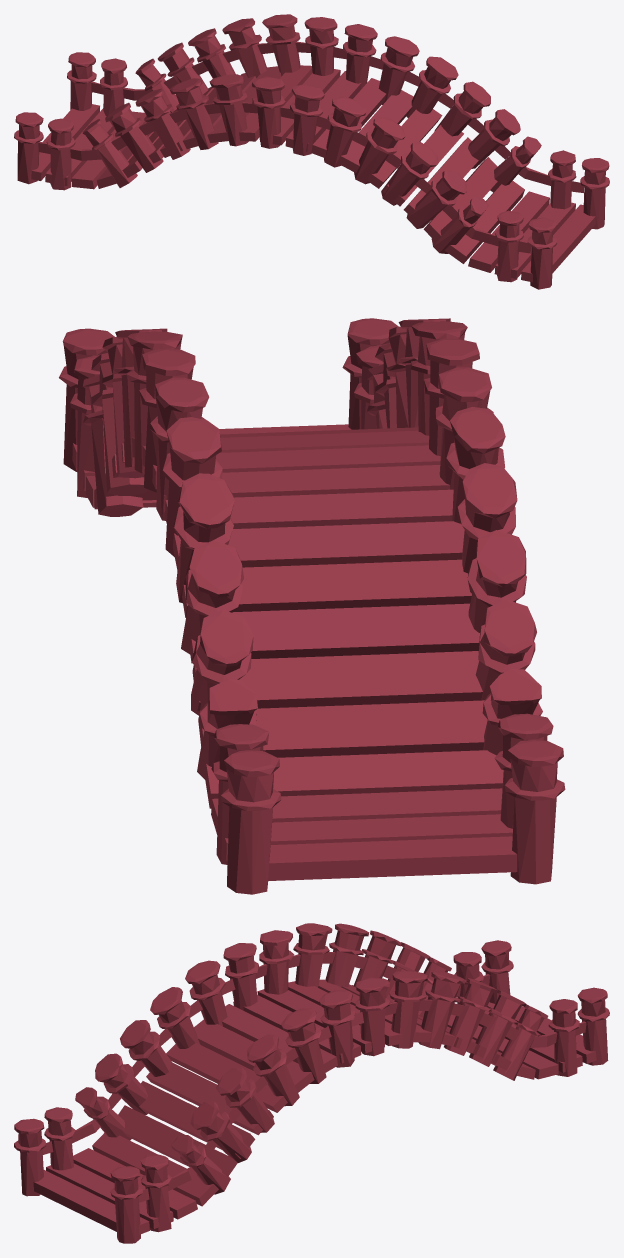
Rendered from bridge.fbx.
3 renders of one model, top to bottom at view 1: azimuth 30°, elevation 25°; view 2: azimuth 150°, elevation 25°; view 3: azimuth 270°, elevation 25°, orthographic. The views are drawn at different scales.
Visible parts, largest first — view 1: bridge; view 2: bridge; view 3: bridge.
Boxes of the visible parts, x1=… form: bridge: x1=14, y1=14, x2=609, y2=289; bridge: x1=59, y1=318, x2=565, y2=894; bridge: x1=14, y1=923, x2=609, y2=1243.
Bounding box in the file's own units: 186 × 68.73 × 211.
